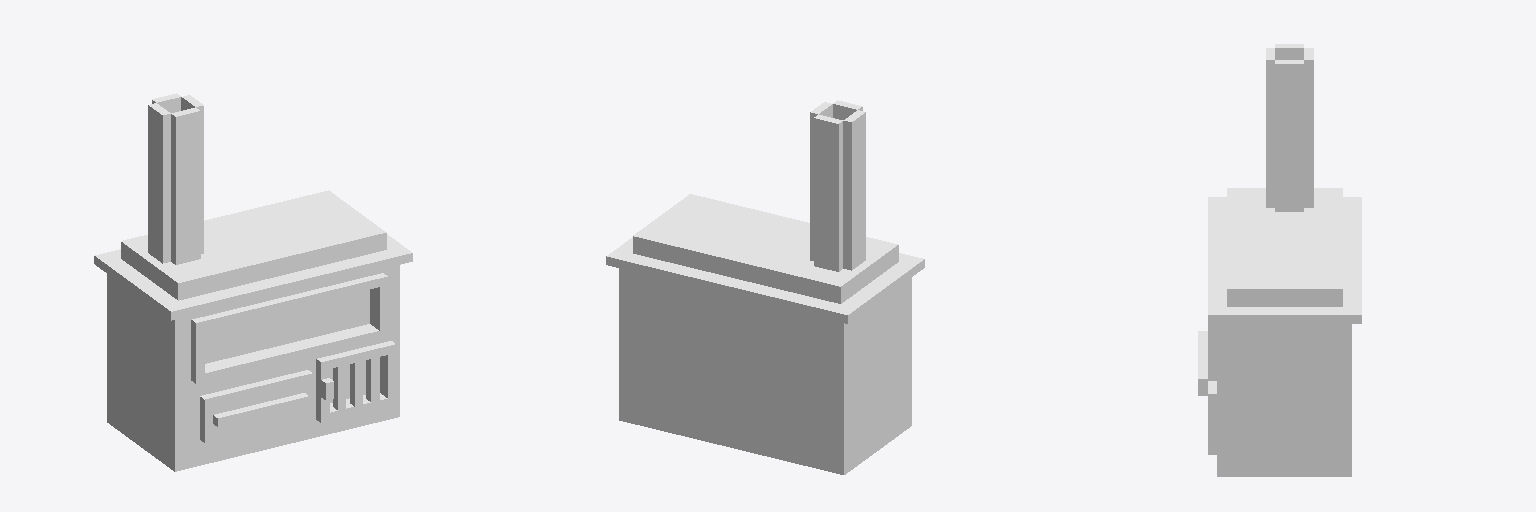
Rendered from Decor-30.obj.
3 views of the same model, side by side, from view 1: azimuth 30°, elevation 25°; view 2: azimuth 150°, elevation 25°; view 3: azimuth 270°, elevation 25° (orthographic).
Visible parts, largest first — view 1: object 1; view 2: object 1; view 3: object 1.
Boxes of the visible parts, x1,y1,x2,y2 form: object 1: [94, 93, 412, 471]; object 1: [606, 100, 924, 474]; object 1: [1198, 44, 1361, 476].
Bounding box in the file's own units: 2.9 × 3.8 × 1.7.